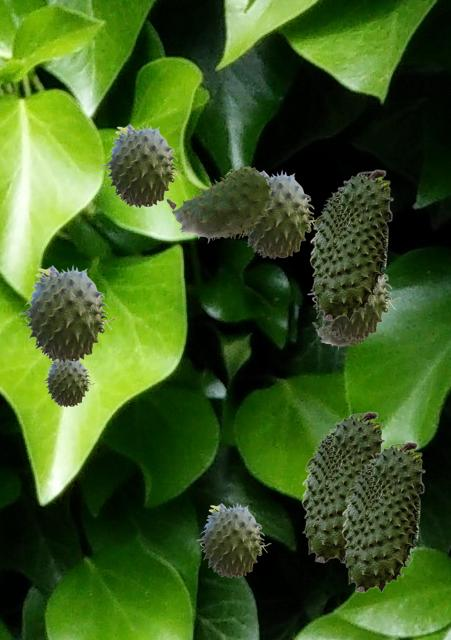guyabano: (309, 169, 392, 320), (301, 411, 384, 562), (341, 441, 424, 592), (19, 264, 116, 362), (166, 166, 272, 242), (101, 123, 184, 207), (241, 169, 314, 258), (307, 274, 399, 340), (196, 502, 270, 577), (42, 360, 94, 406), (312, 322, 370, 348)
